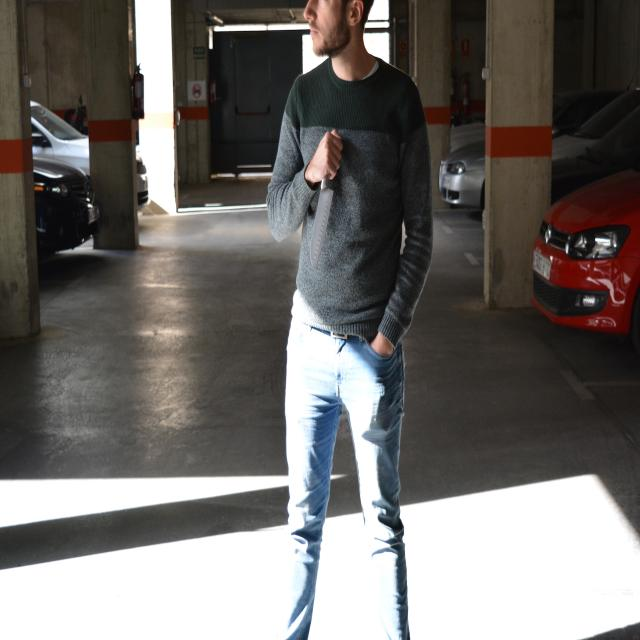knife: (309, 187, 341, 272)
